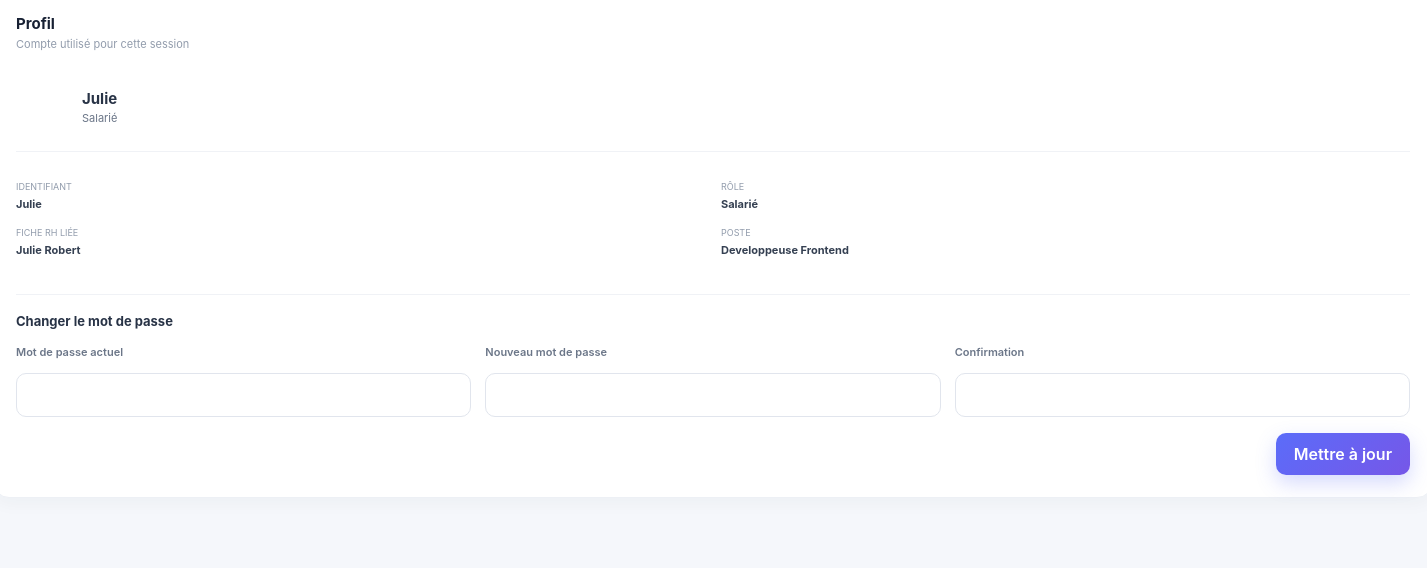
Test: <ProfileSettings /> › refuse un mot de passe trop court
This screenshot has width=1427, height=568.
Type "user" into the password field labelled "Mot de passe actuel" at (244, 395), box left=16, top=373, right=471, bottom=417
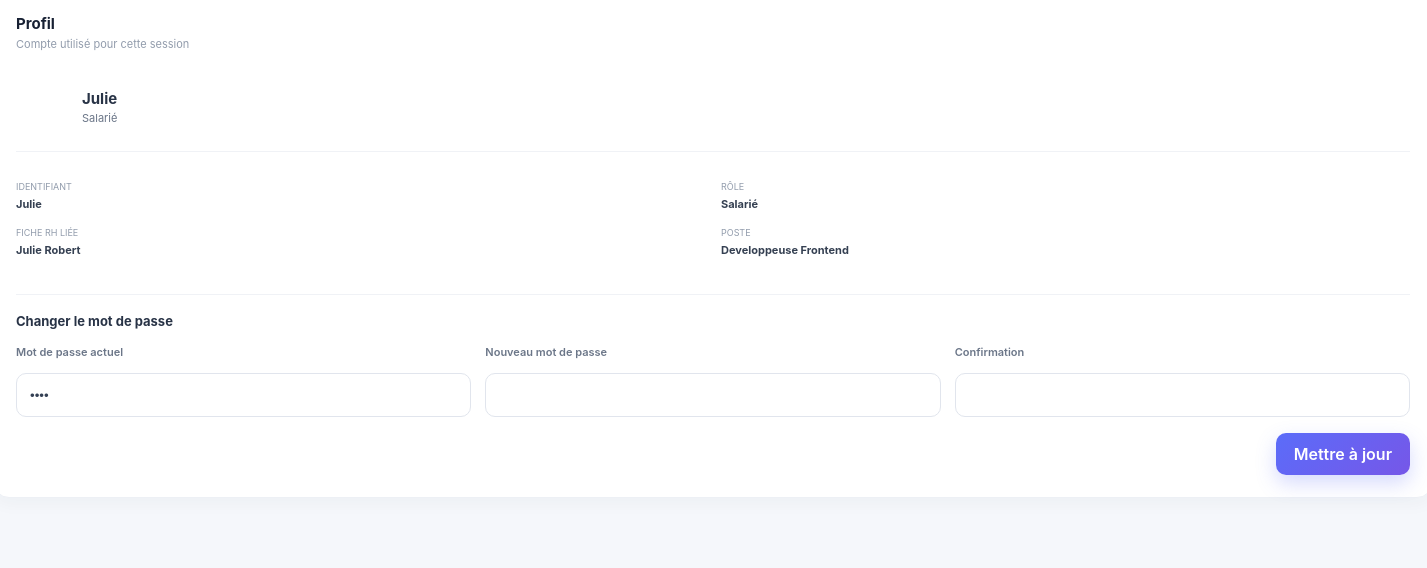
Type "ab" into the password field labelled "Nouveau mot de passe" at (713, 395), box left=485, top=373, right=941, bottom=417
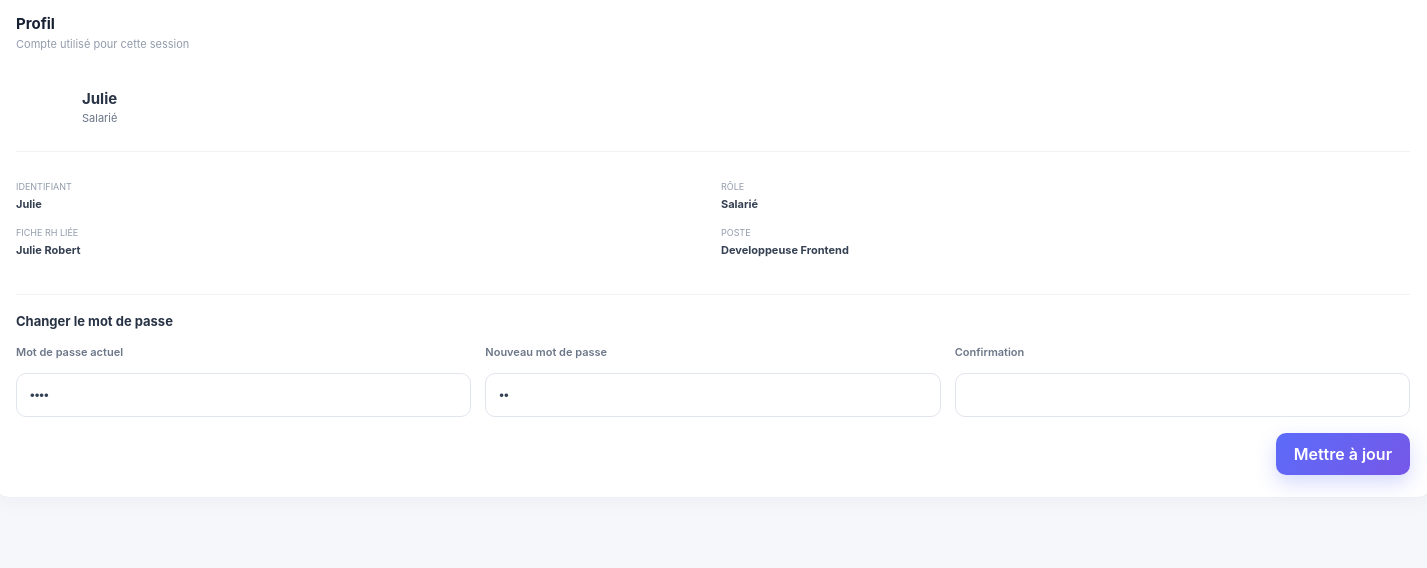
Type "ab" into the password field labelled "Confirmation" at (1182, 395), box left=955, top=373, right=1410, bottom=417
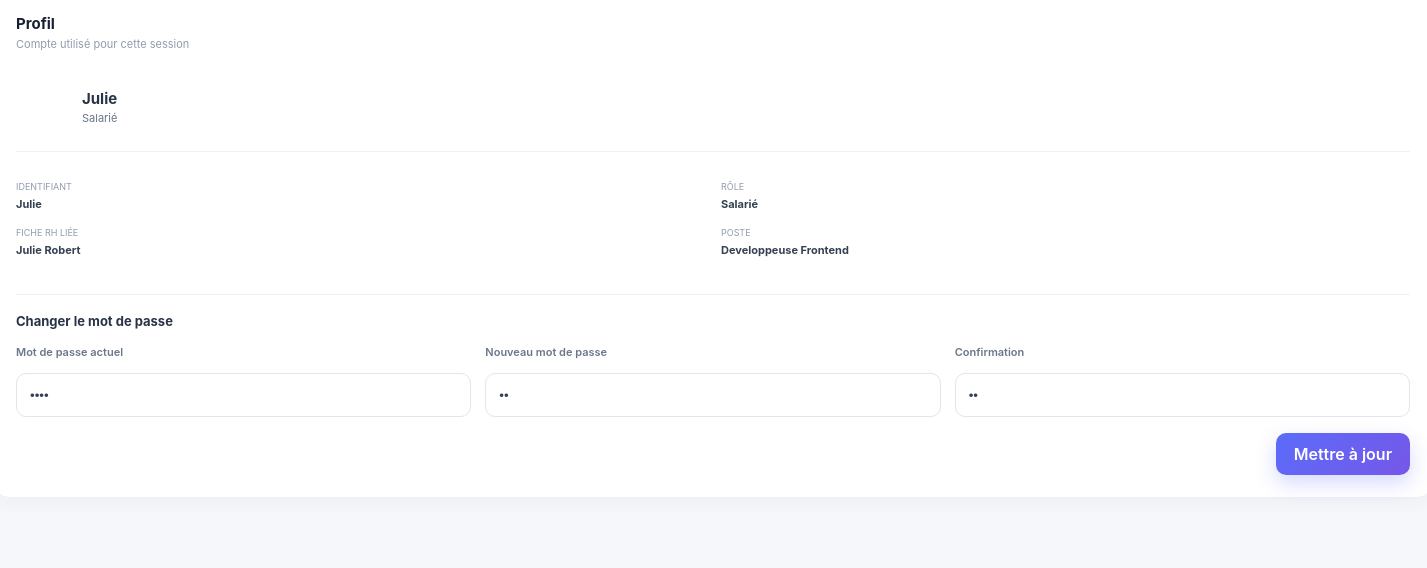
Click the button "Mettre à jour" at (1343, 454), box left=1276, top=433, right=1410, bottom=475
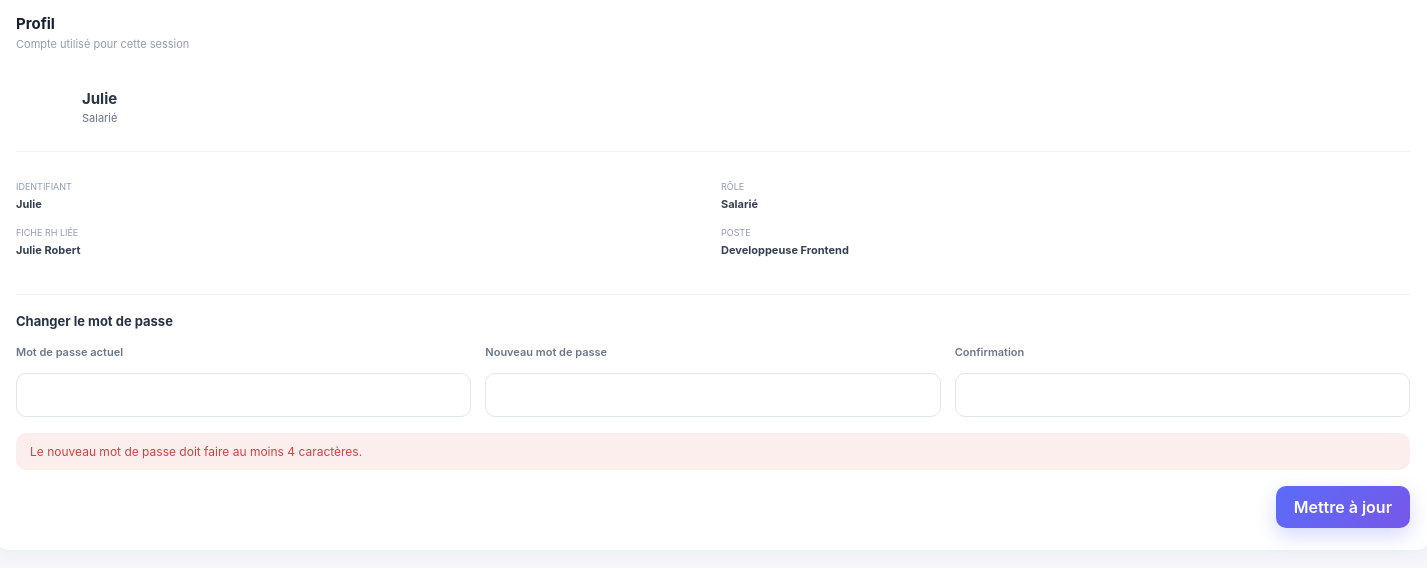
Check: the text "Le nouveau mot de passe doit faire au moins 4 caractères." is shown, box left=16, top=433, right=1410, bottom=470
